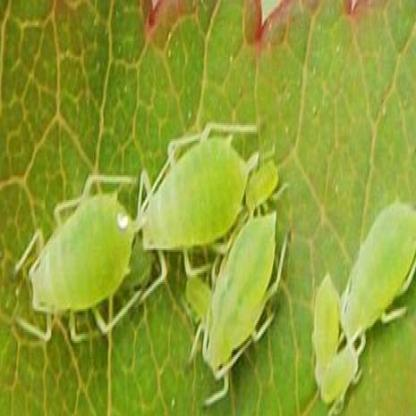aphid: (17, 157, 138, 360), (136, 100, 254, 277), (194, 185, 288, 404), (339, 194, 416, 347), (306, 268, 341, 392), (245, 138, 288, 216), (323, 335, 362, 406), (180, 266, 216, 324)
